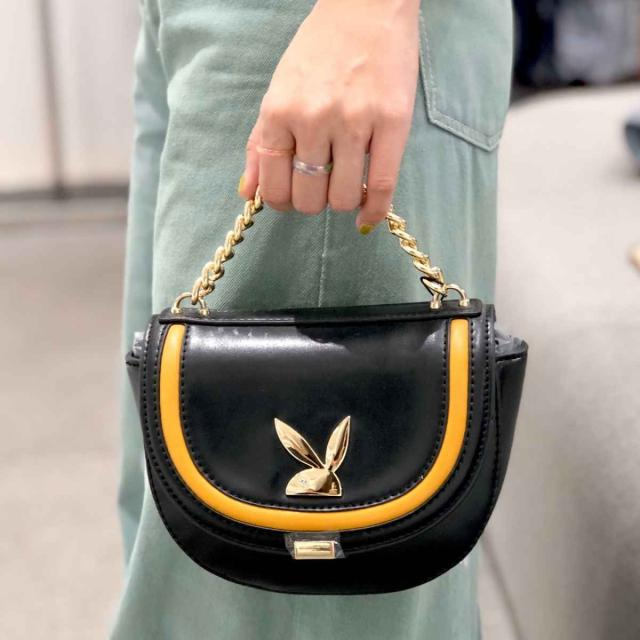handbag: (116, 271, 526, 604)
